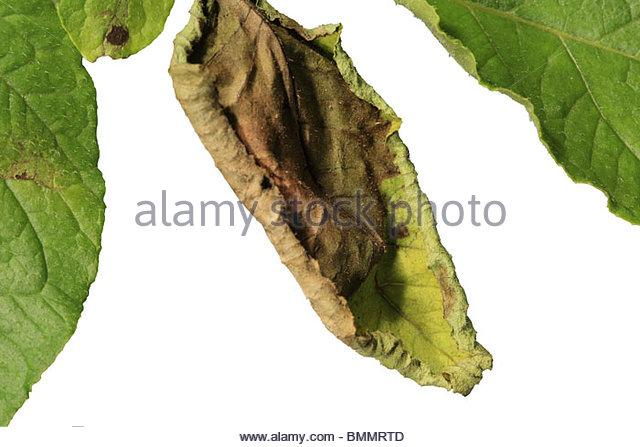Potato leaf late blight: (165, 1, 511, 405), (49, 1, 174, 62)
